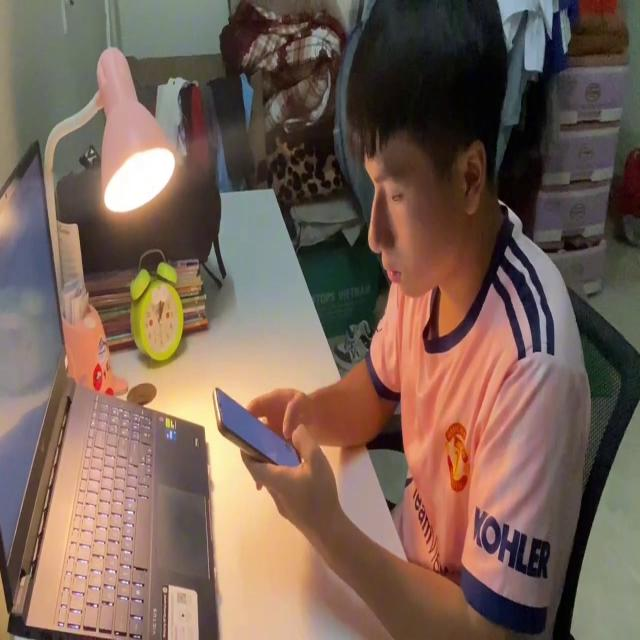laptop: (0, 135, 219, 640)
phone: (211, 378, 307, 476)
student: (239, 0, 594, 640)
